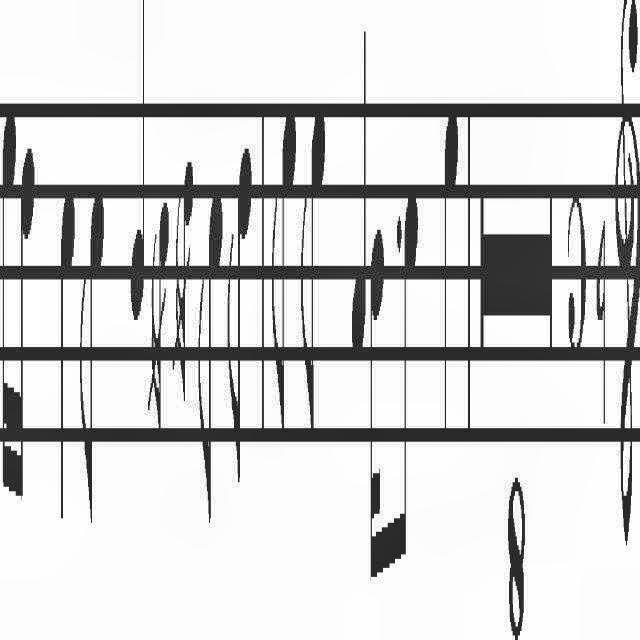Bass-clef: (612, 1, 640, 560)
Bemol: (596, 206, 606, 422)
Eighth-note: (300, 99, 328, 449), (226, 142, 254, 492), (270, 104, 298, 436), (78, 186, 105, 530), (198, 180, 224, 524), (401, 187, 419, 575)
Quarter-note: (58, 185, 78, 528), (441, 102, 459, 438), (350, 35, 368, 358), (130, 0, 146, 334)
Sixteenth-note: (17, 145, 35, 528), (1, 102, 17, 524), (368, 224, 384, 612)
